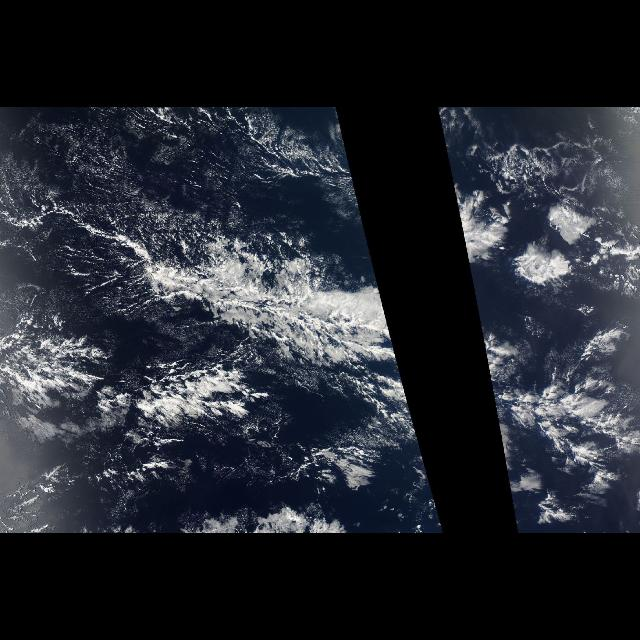Fish: (52, 202, 404, 382), (458, 210, 506, 382)
Flower: (448, 162, 640, 318)
Sugar: (2, 112, 260, 240)
